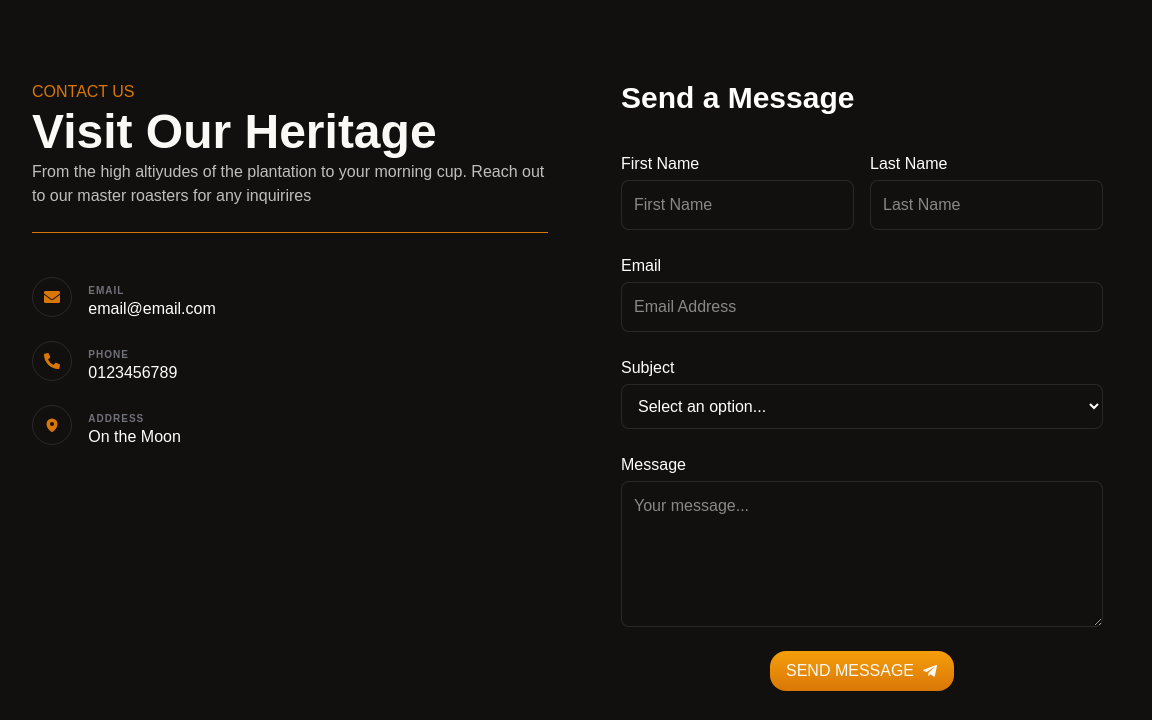
Test case: Contact Page › shows validation errors for empty fields on submit
This screenshot has width=1152, height=720.
Click the button "Send Message" at (862, 671), box [770, 651, 954, 691]
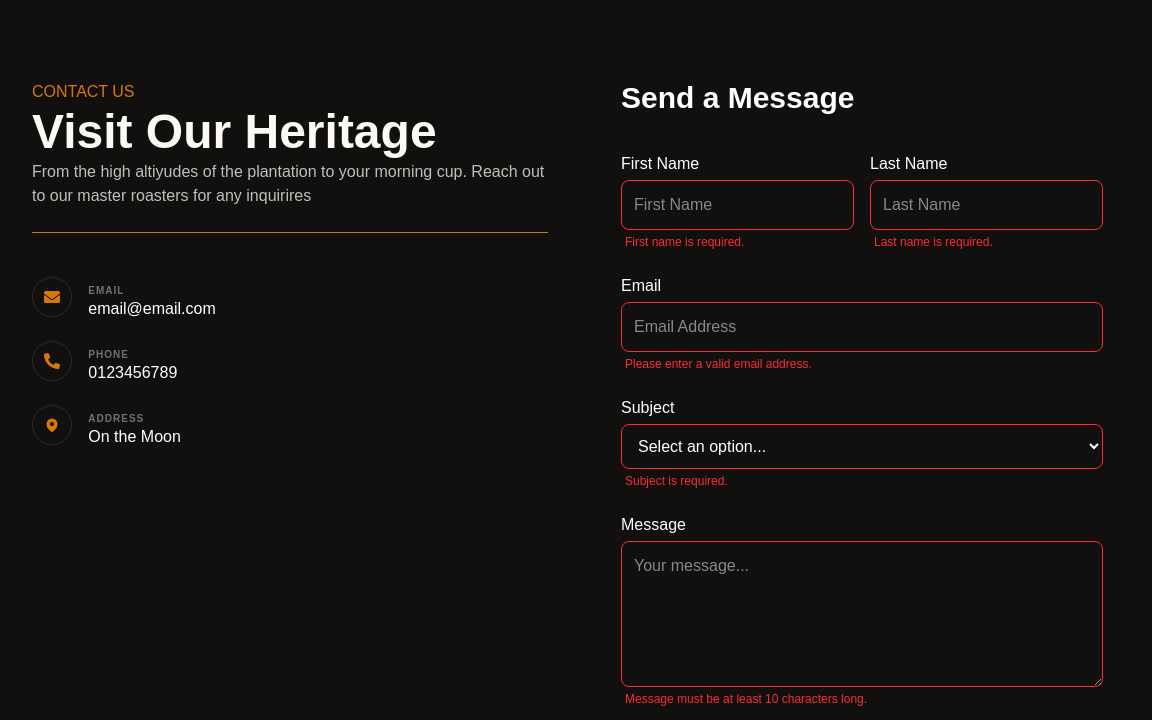
Check: the text "First name is required." is shown, box [625, 235, 744, 249]
Check: the text "Please enter a valid email address." is shown, box [625, 357, 812, 371]
